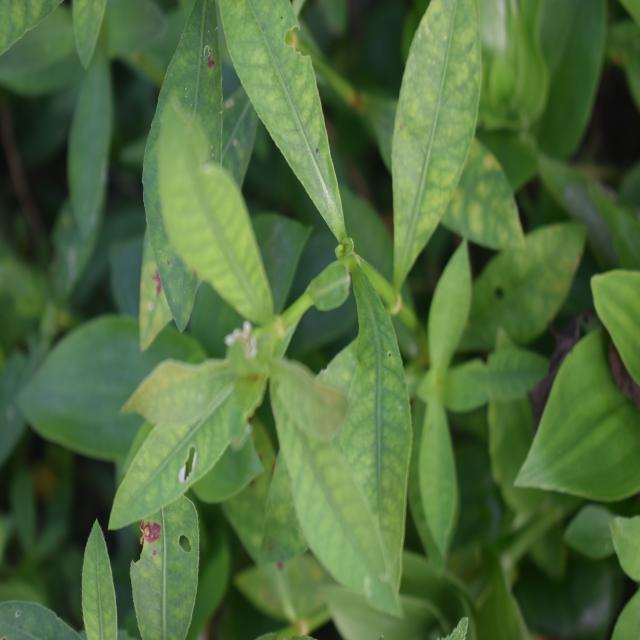Alligatorweed: (138, 23, 418, 588)
